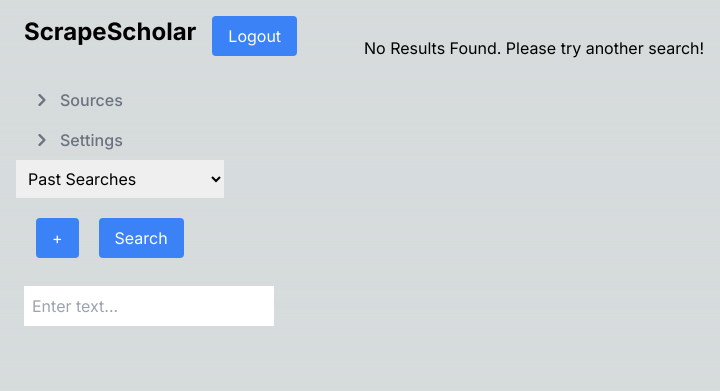
Test: SearchView US-17 Component › US-17 Settings Accordion Expands and shows API Keys, and not User management text for non-admin
Click the button "Settings".
click(85, 140)  # box [28,120,143,160]
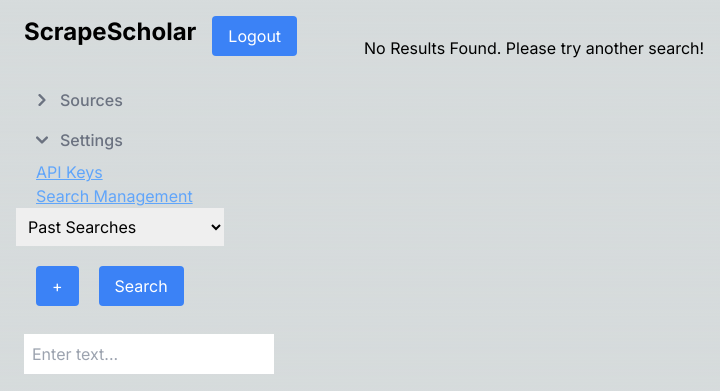
Expected: the link "API Keys" is shown, [36,162,103,182]
